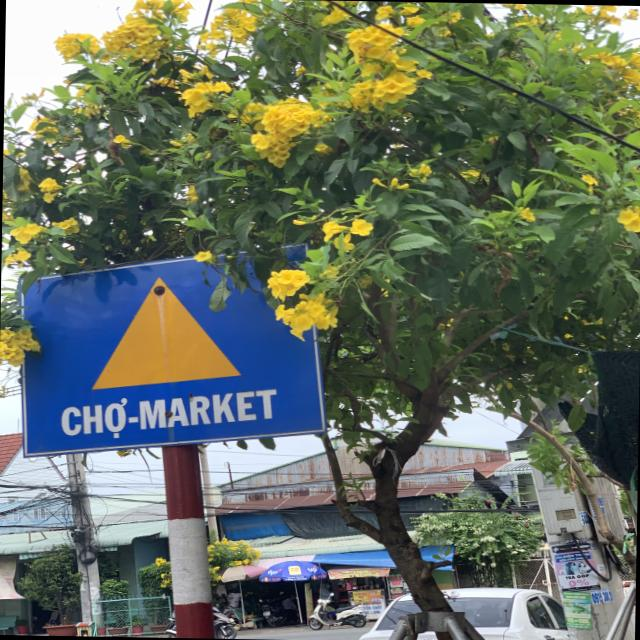Cho_Quay_Xe: (24, 255, 326, 462)
